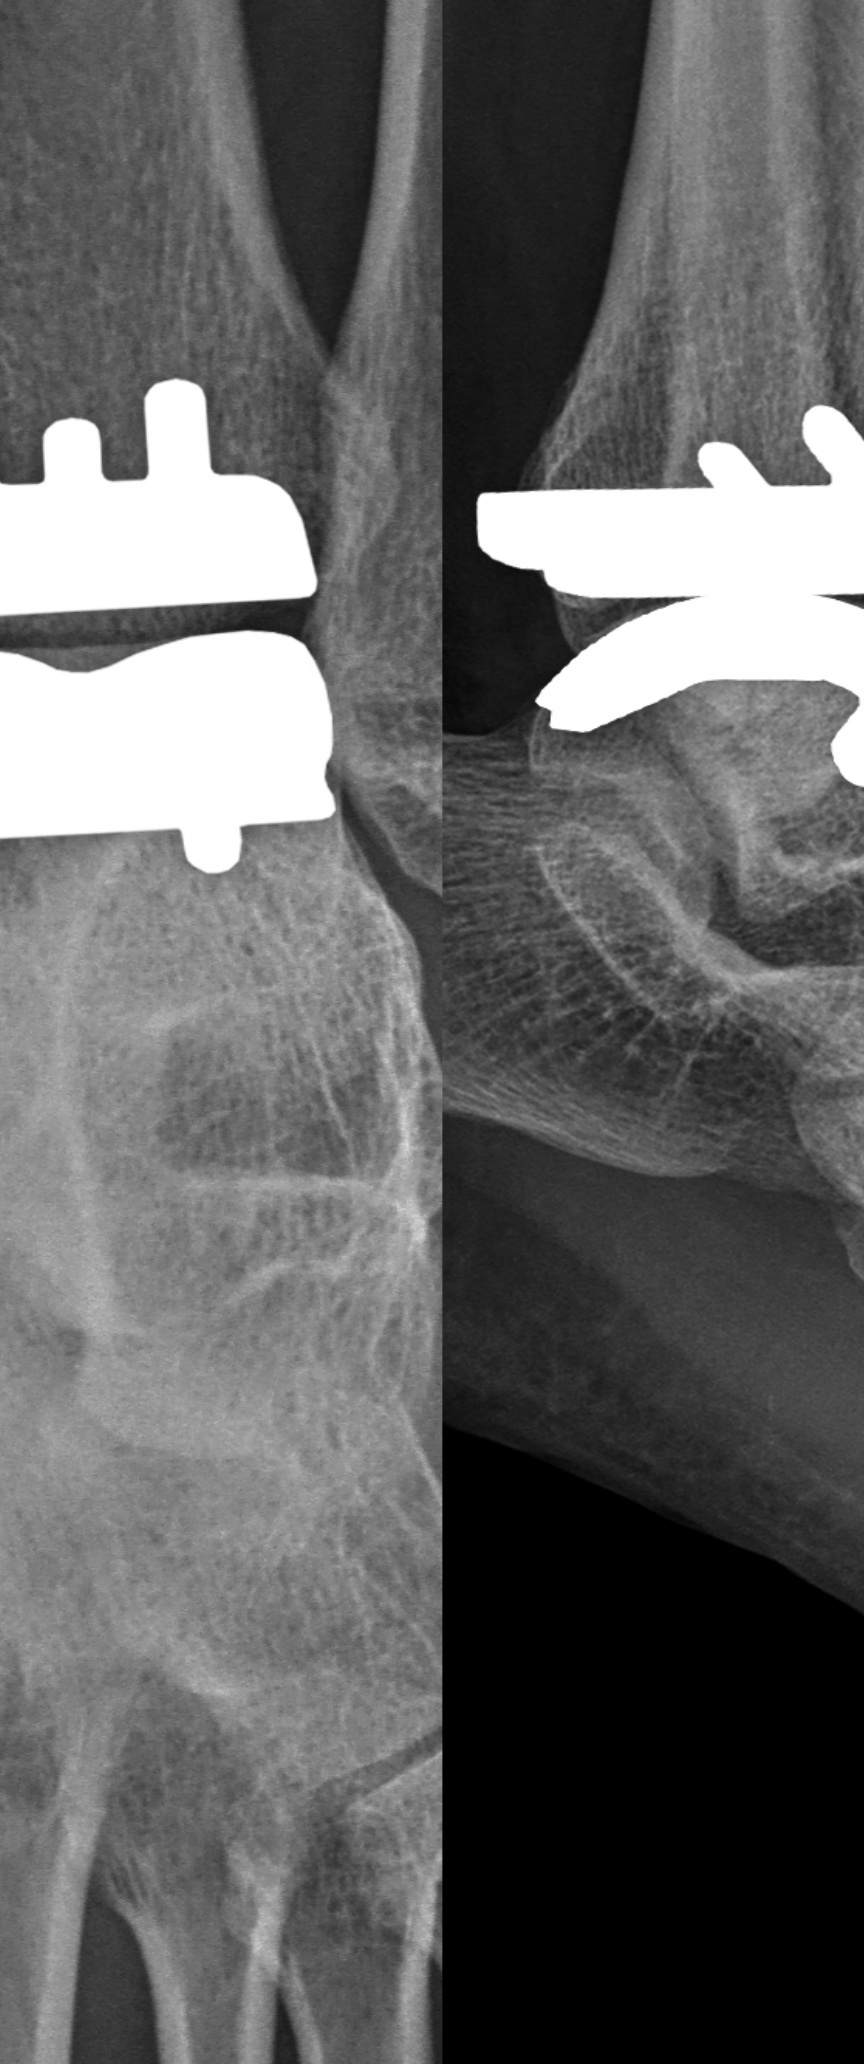Ankle - Infinity - Wright: (1, 369, 361, 898), (461, 395, 864, 800)
